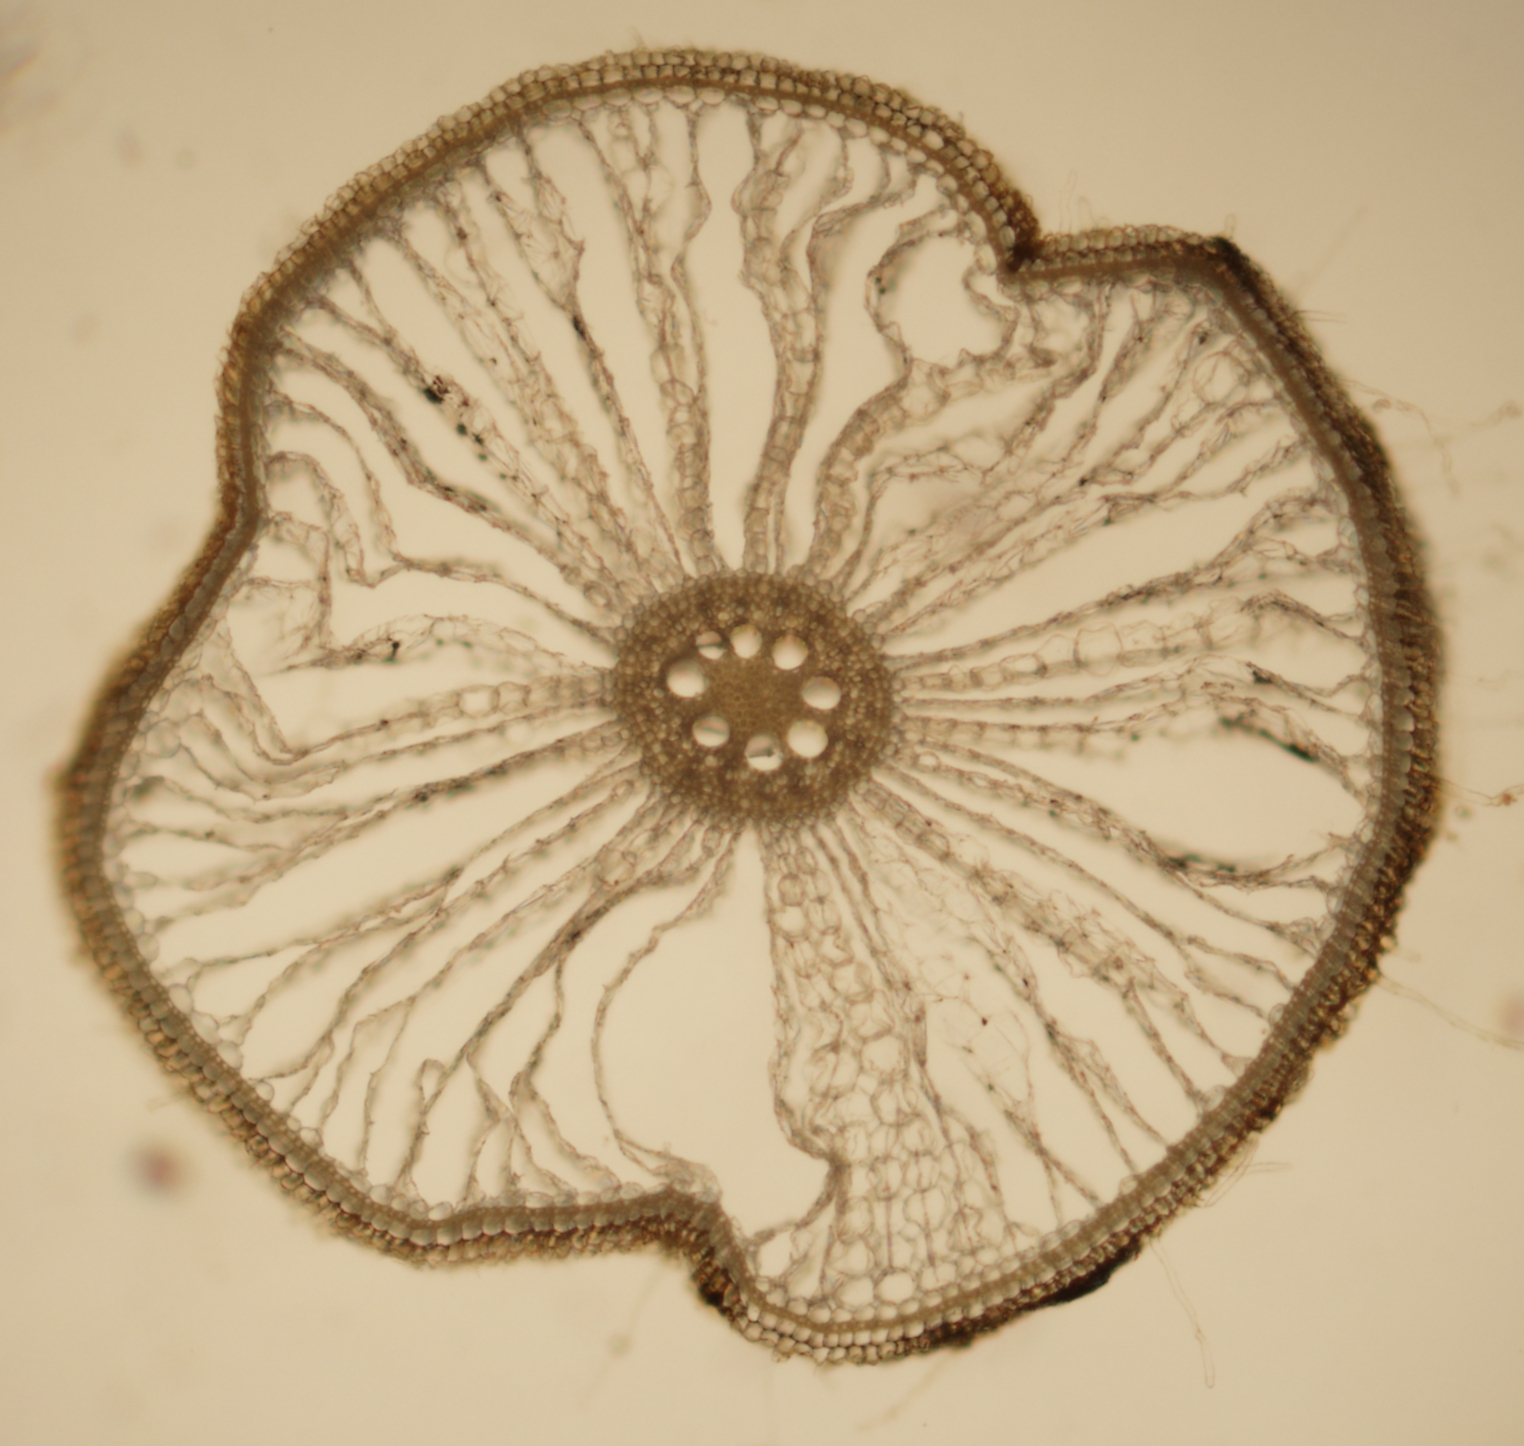lm: (666, 658, 710, 699), (784, 720, 828, 758), (744, 733, 782, 772), (801, 675, 842, 709), (771, 635, 809, 670), (691, 713, 730, 747), (729, 622, 761, 659), (695, 631, 726, 659)
